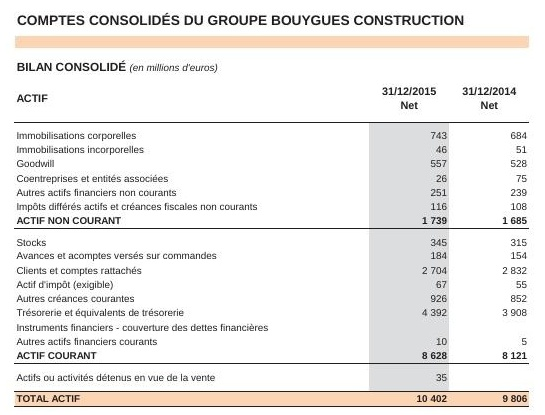table: (0, 0, 545, 415)
